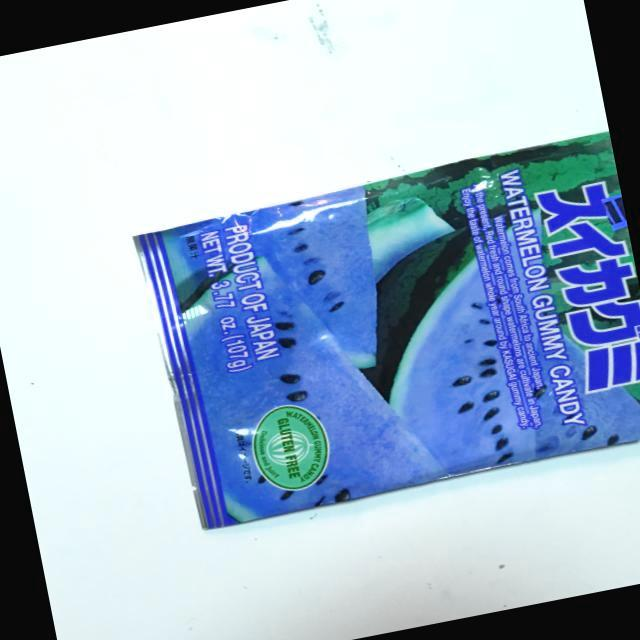plastic: (52, 86, 640, 588)
